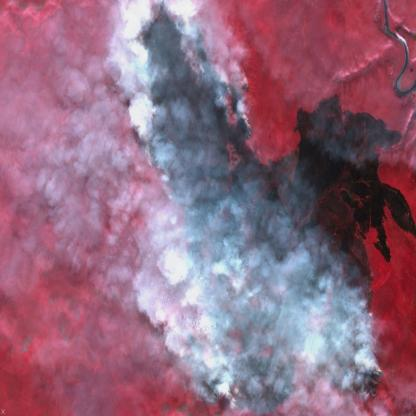fire: (174, 245, 389, 416), (116, 0, 256, 208)
